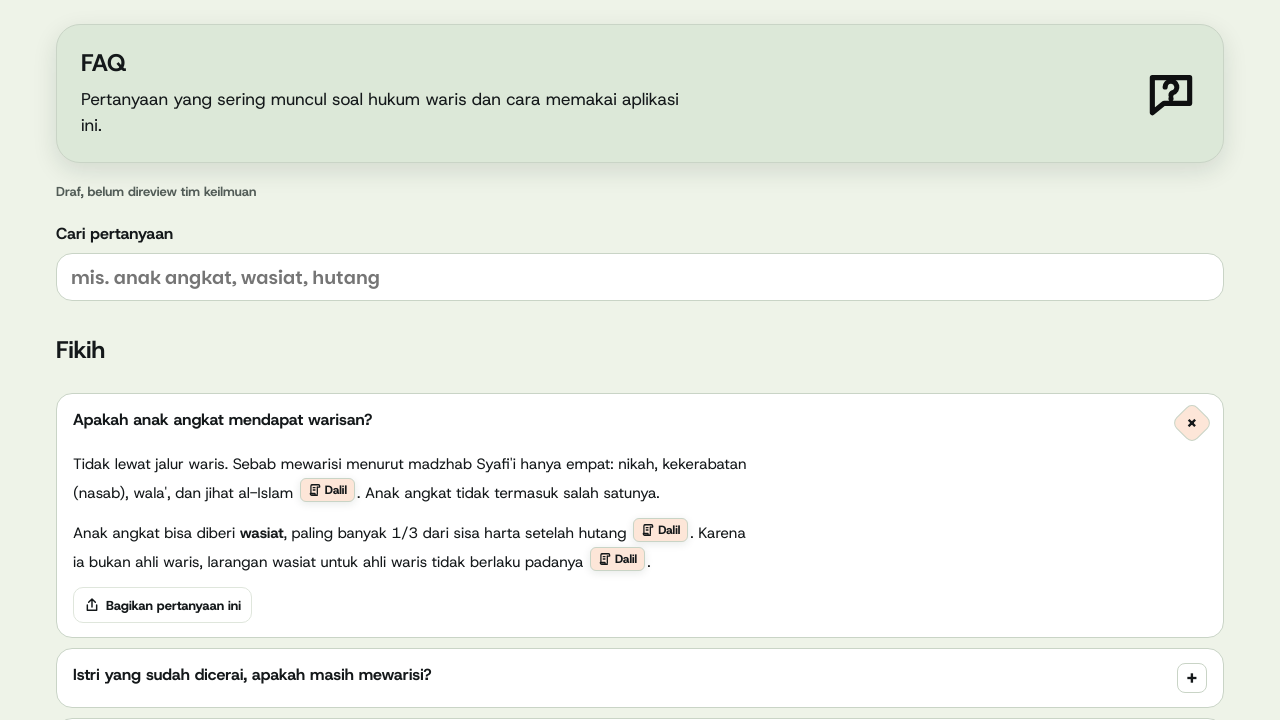
FAQ: semua pertanyaan tampil per kelompok, bisa dicari, dan id membuka pertanyaannya
Expected: the 1st button with class "chip-dalil" is shown, [300, 478, 355, 502]
Type "anak angkat" into the search field at (640, 278), box [56, 254, 1224, 302]
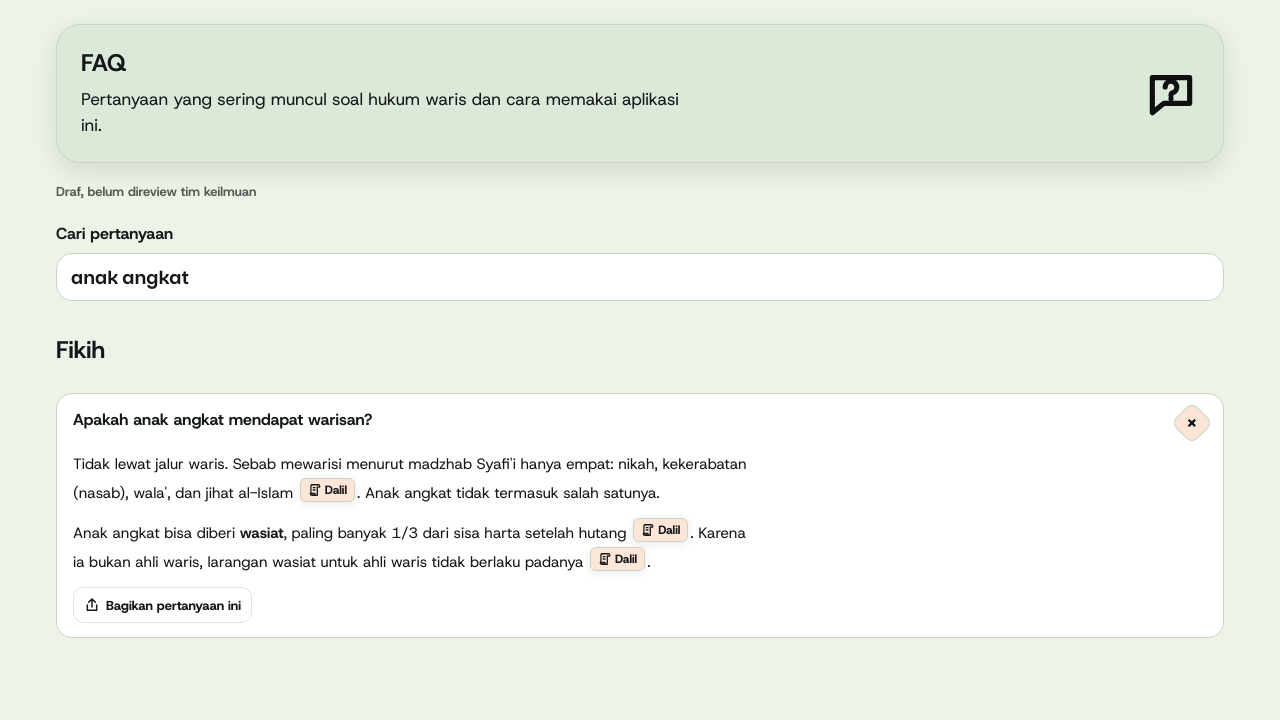
Replace the text in the search field with "zzz tidak ada" at (640, 278), box [56, 254, 1224, 302]
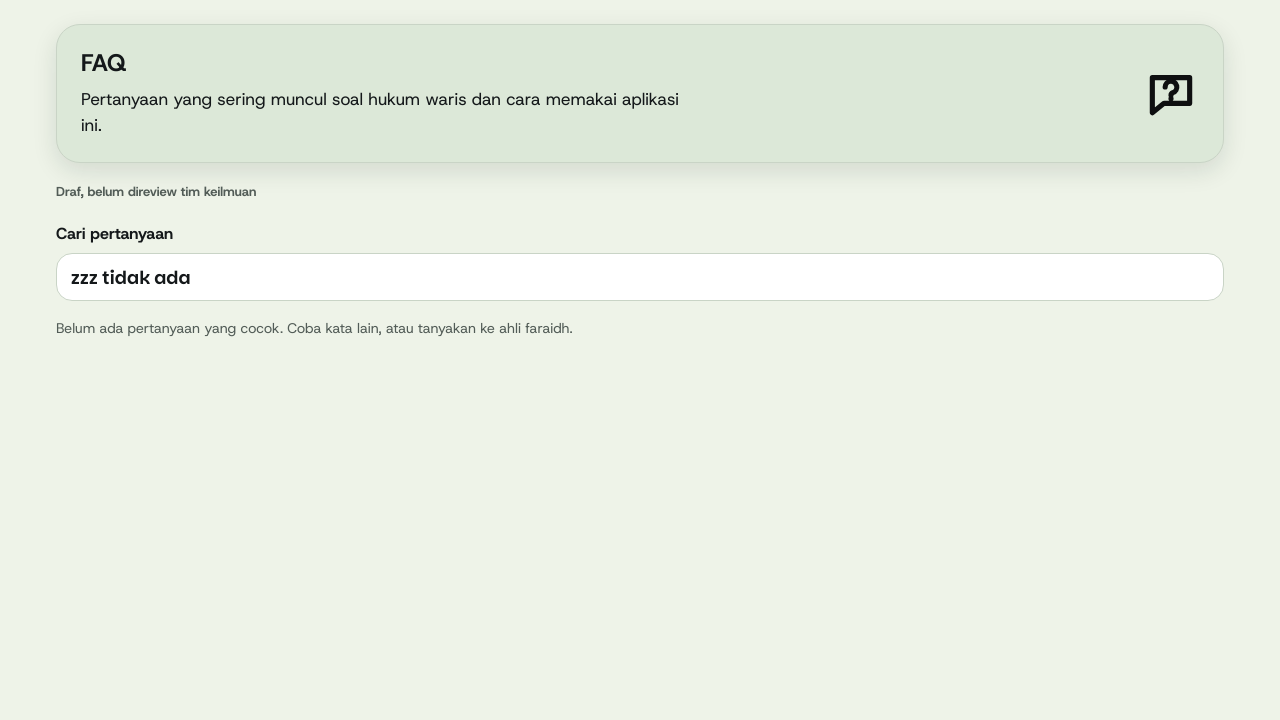
Expected: the text "Belum ada pertanyaan yang cocok" is shown, [56, 320, 573, 338]
